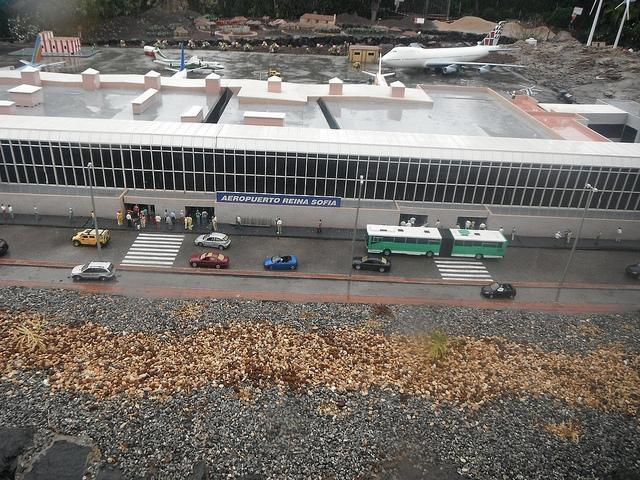bus: (364, 224, 508, 262)
car: (71, 260, 117, 283), (72, 228, 110, 248), (194, 232, 232, 250), (352, 255, 392, 272), (481, 282, 517, 300), (264, 253, 298, 270), (189, 254, 228, 268), (626, 261, 640, 280), (1, 239, 10, 260)
